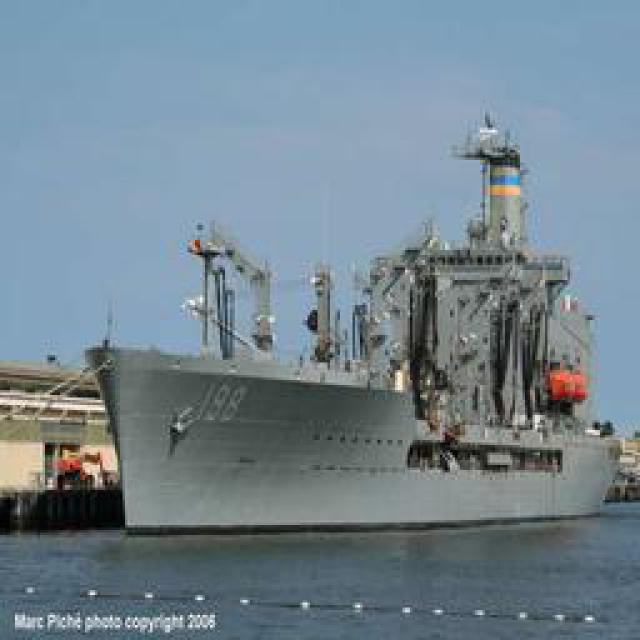Ship: (102, 85, 612, 533)
